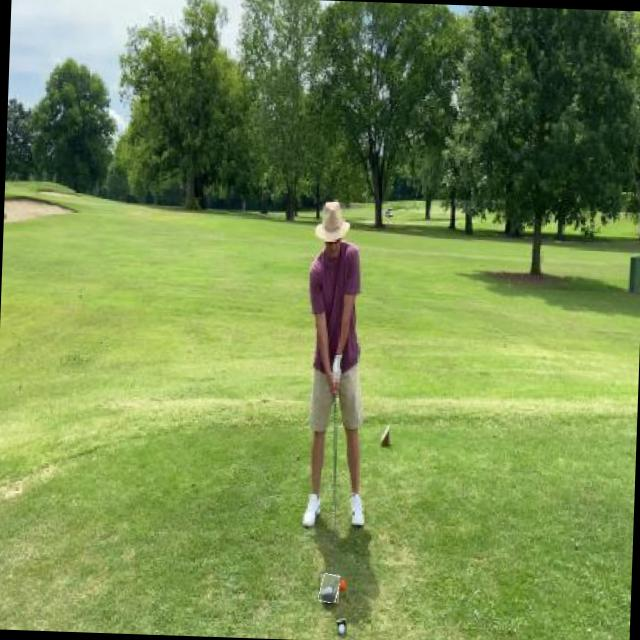club head: (319, 573, 339, 603)
